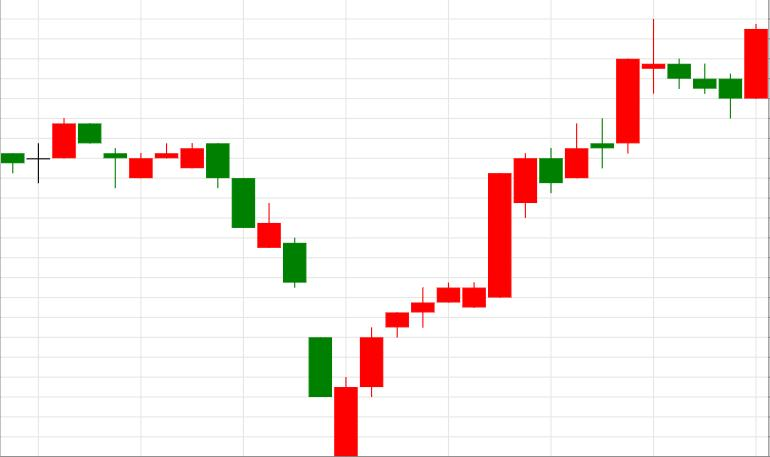three_white_soldiers_rise: (207, 144, 408, 457)
